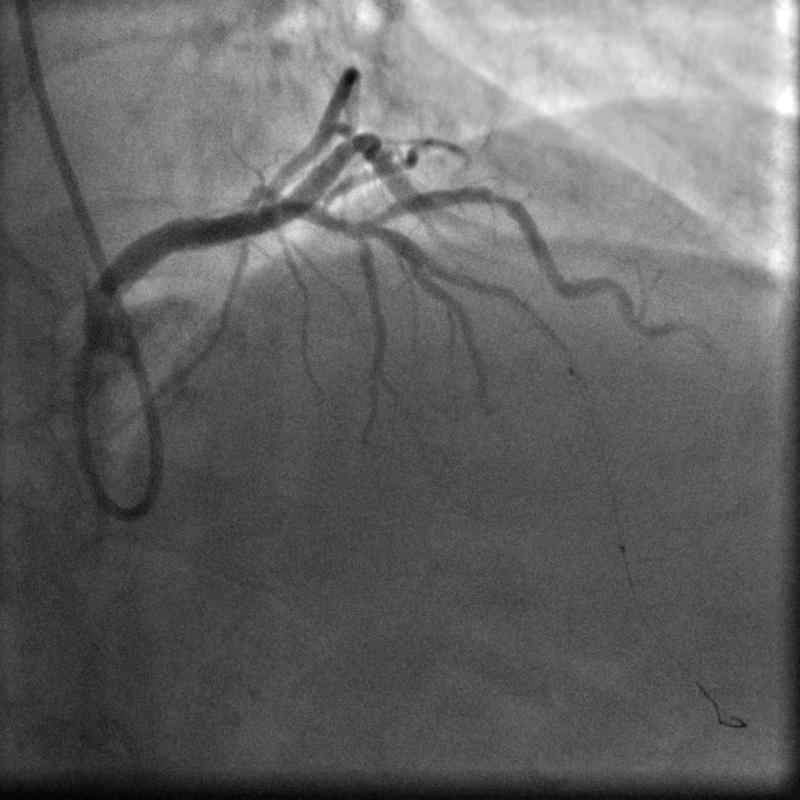Stenosis: (477, 176, 519, 219)
